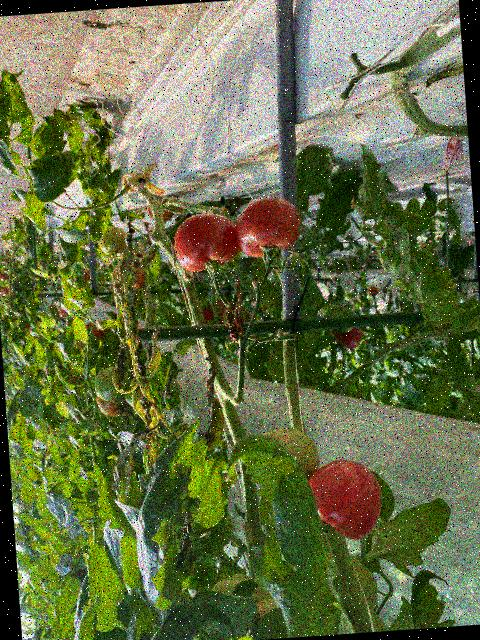b_fully_ripened: (306, 455, 384, 543), (232, 193, 303, 259), (171, 210, 241, 273), (329, 326, 363, 351)
b_green: (92, 364, 131, 402), (322, 302, 357, 333), (289, 252, 300, 261)
b_half_ripened: (98, 225, 131, 259), (95, 392, 131, 418)
